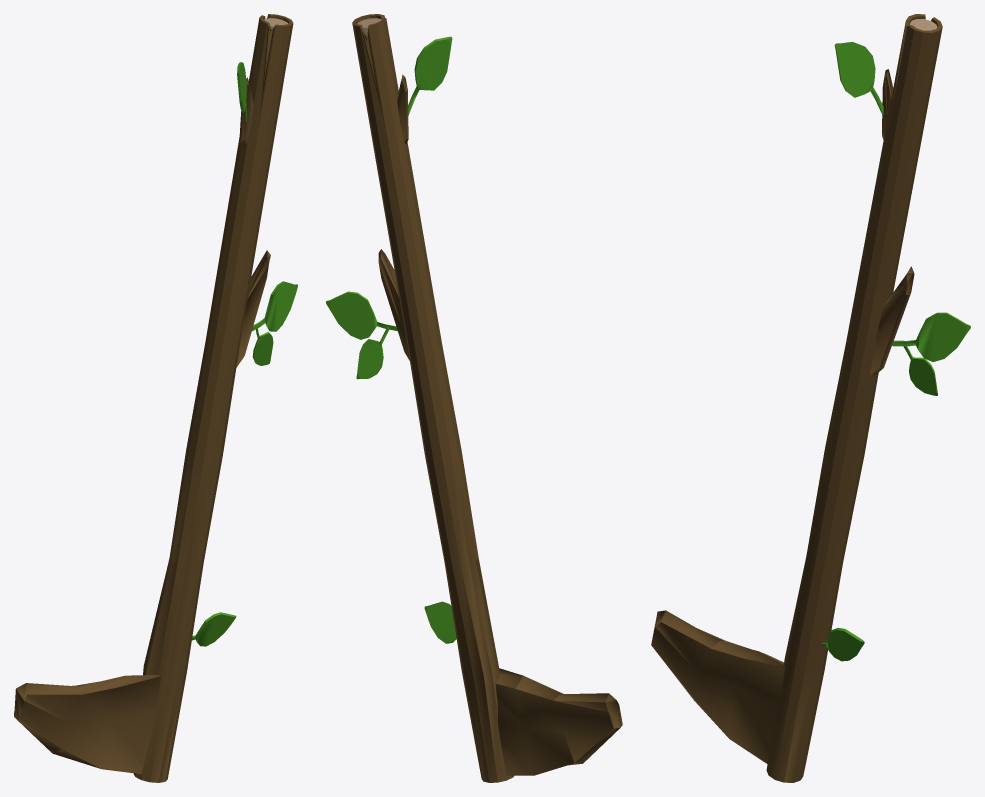
The model's file is golfClub6.glb.
3 views of the same model, side by side, from view 1: azimuth 30°, elevation 25°; view 2: azimuth 150°, elevation 25°; view 3: azimuth 330°, elevation 25° (orthographic). The views are drawn at different scales.
Visible parts, largest first — view 1: PotiClub; view 2: PotiClub; view 3: PotiClub.
Part boxes in pixels (<box>): PotiClub: <box>14,14,297,782</box>; PotiClub: <box>326,14,622,782</box>; PotiClub: <box>651,14,970,782</box>.
Size of the model in its own units: 0.5599 by 1.35 by 0.1117.
1 material, 1 textured.
